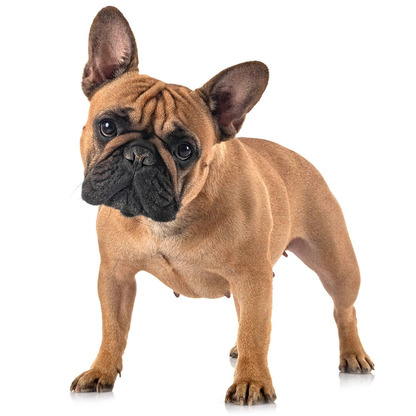bulldog: (68, 5, 380, 410)
